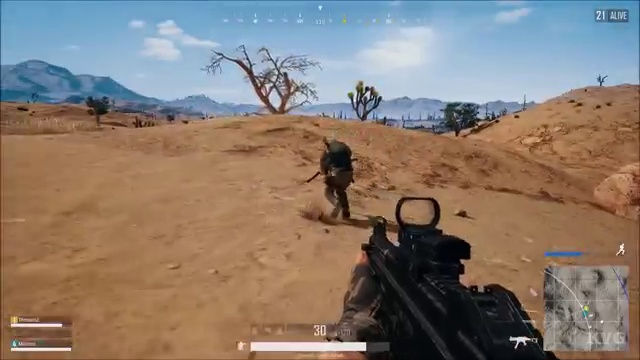Player: (300, 131, 365, 227)
